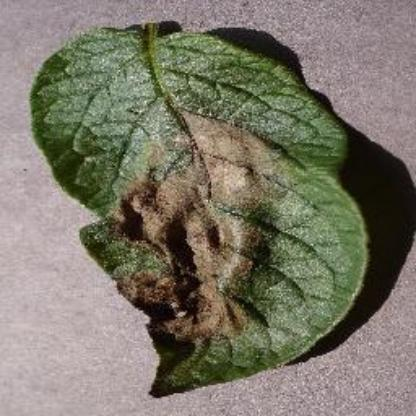Late-Blight: (10, 7, 402, 407)
